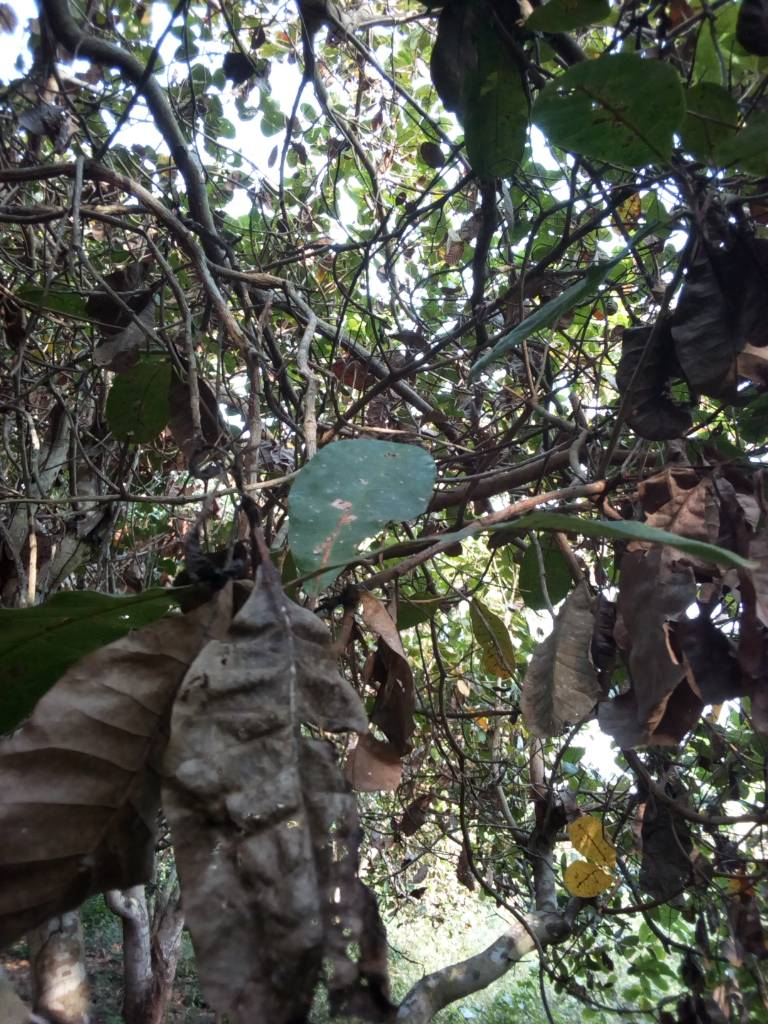Dessèchement des bourgeons: (545, 920, 744, 1024)
